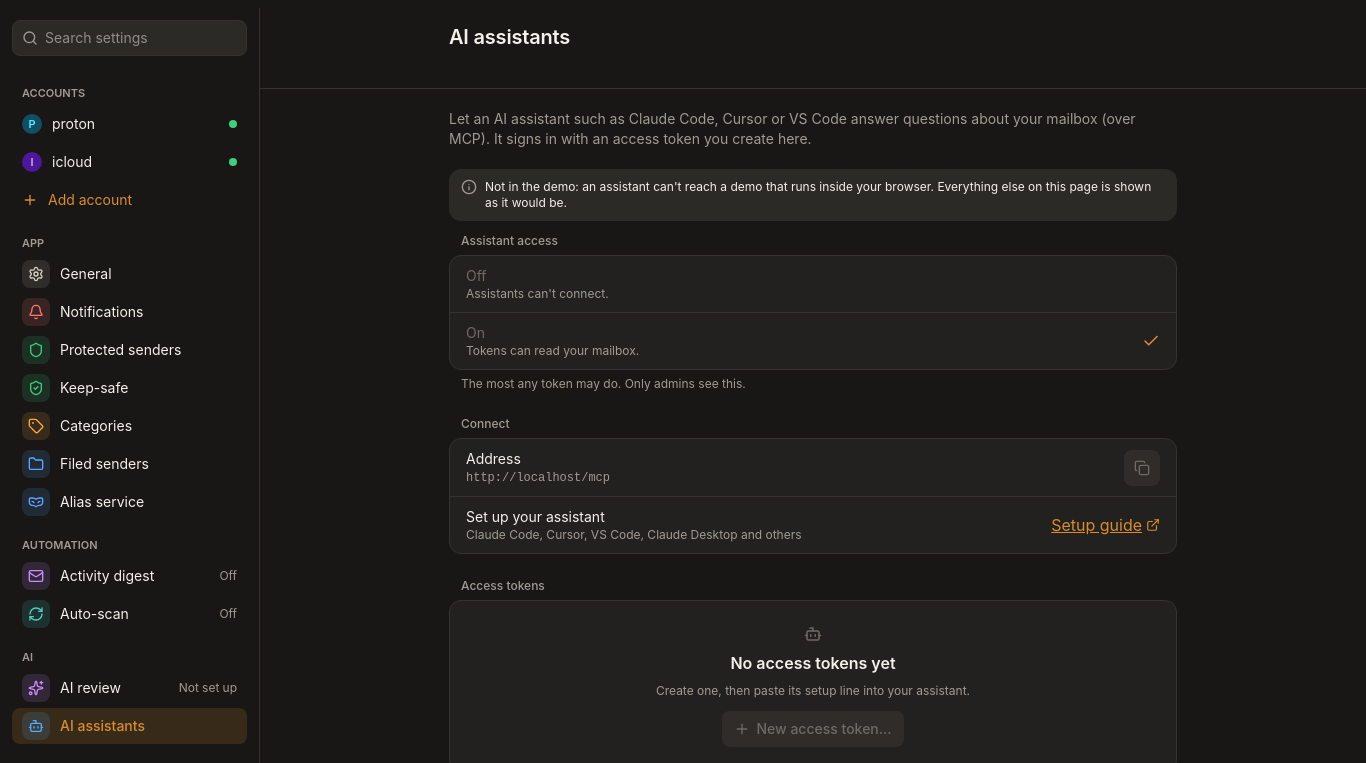
it: no tokens yet: an empty state with the New access token… button
Expected: the text "No access tokens yet" is shown, [730,651,896,675]
Click the button "New access token…". click: (813, 729)
box: [722,711,904,747]
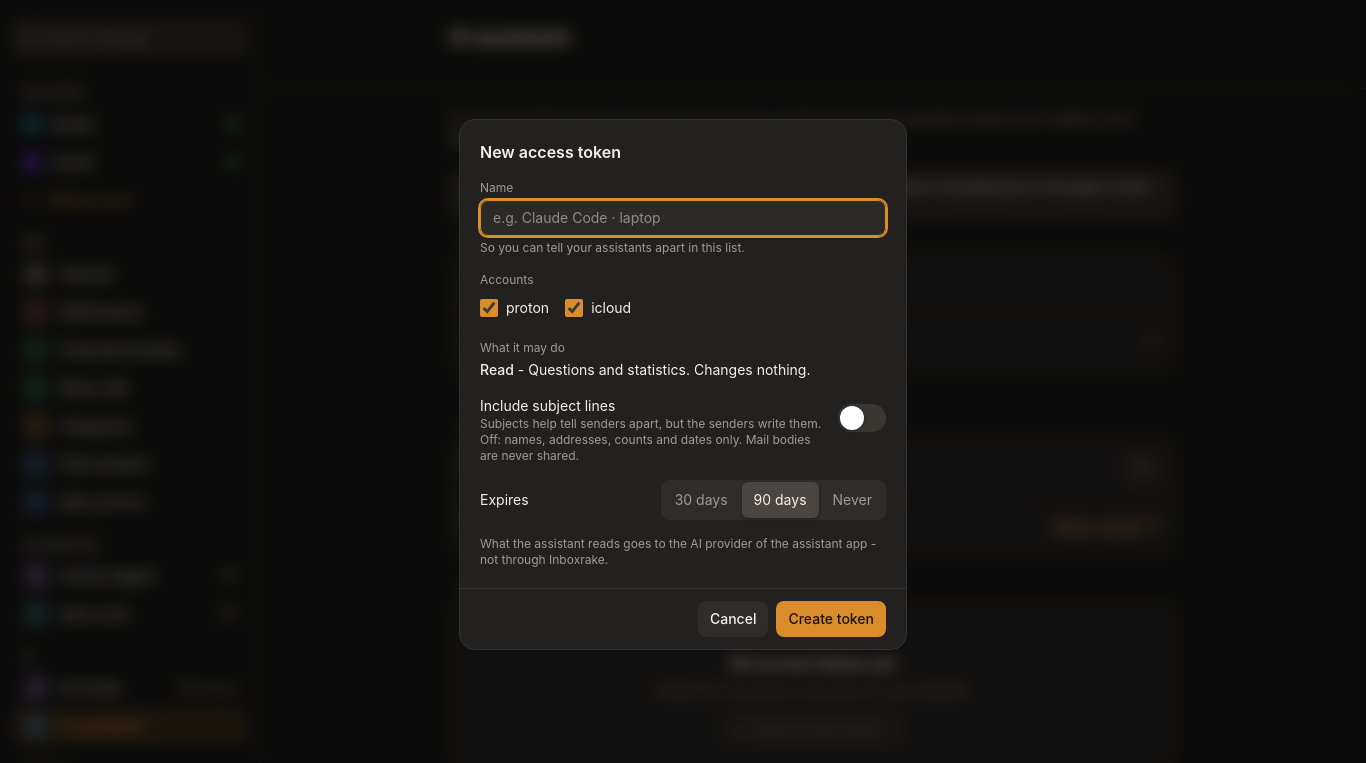
Now the text "New access token" is shown, box [480,142,621,162]
